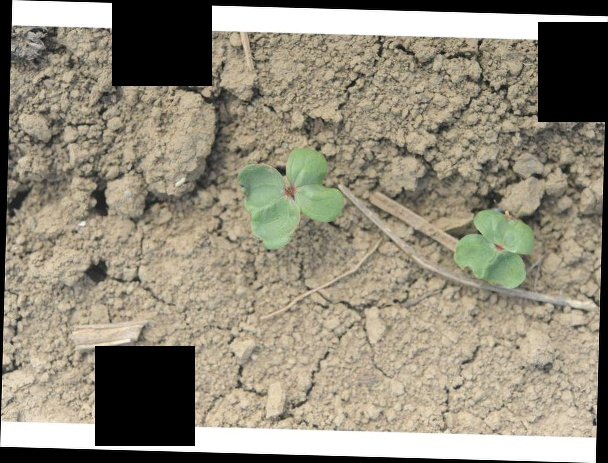cotton: (236, 147, 341, 251), (456, 206, 534, 290)
